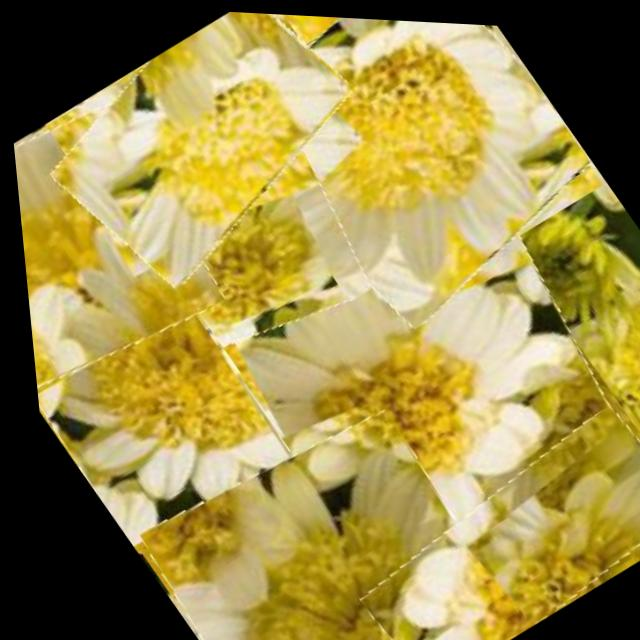Flower: (121, 151, 640, 640), (195, 8, 622, 346), (17, 1, 394, 299), (48, 82, 391, 399), (109, 382, 522, 640), (15, 197, 301, 563), (320, 389, 640, 640), (7, 86, 239, 415)
